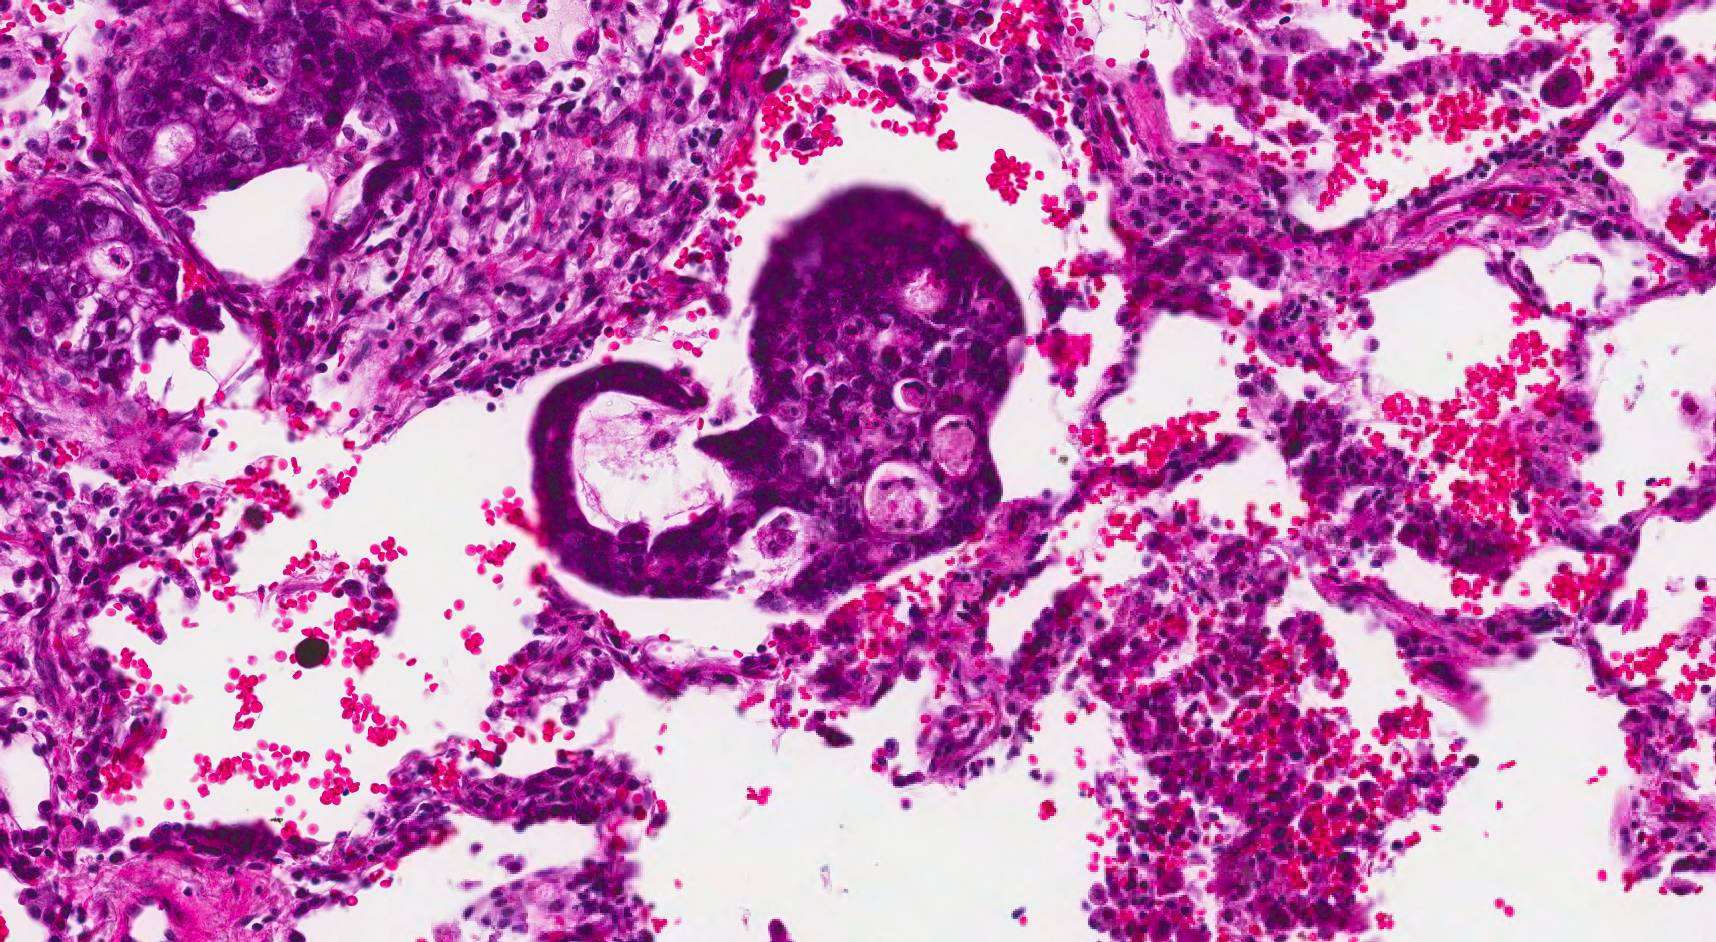stas: (530, 182, 1031, 609)
